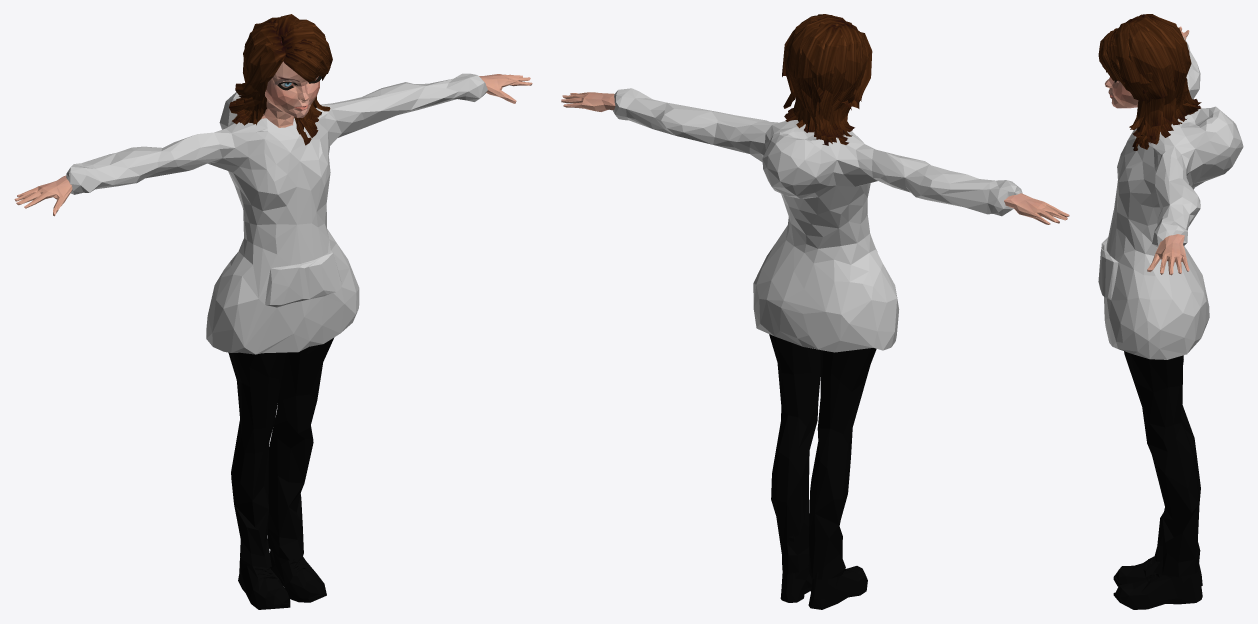
File: norraCustom1.obj
3 renders of one model, left to right at view 1: azimuth 30°, elevation 25°; view 2: azimuth 150°, elevation 25°; view 3: azimuth 270°, elevation 25°, orthographic.
Visible parts, largest first — view 1: Tops, Bottoms, Hair, Body, Shoes; view 2: Tops, Bottoms, Hair, Shoes, Body; view 3: Tops, Bottoms, Hair, Shoes, Body.
Boxes of the visible parts, x1,y1,x2,y2 form: Tops: (66, 73, 487, 354); Bottoms: (228, 337, 334, 567); Hair: (229, 14, 332, 145); Body: (14, 41, 532, 216); Shoes: (238, 549, 326, 609); Tops: (613, 88, 1022, 352); Bottoms: (769, 334, 876, 579); Hair: (782, 14, 872, 145); Shoes: (780, 534, 867, 609); Body: (561, 92, 1069, 224); Tops: (1098, 36, 1243, 359); Bottoms: (1124, 351, 1200, 576); Hair: (1098, 14, 1201, 150); Shoes: (1113, 556, 1202, 609); Body: (1105, 26, 1189, 275).
Bounding box in the file's own units: 4.67 × 5.05 × 1.15.
